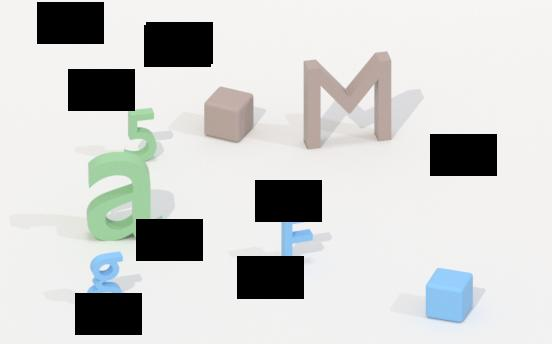5: (126, 105, 159, 161)
F: (280, 207, 315, 268)
M-hoa: (302, 52, 393, 153)
a: (86, 151, 164, 242)
g: (87, 251, 126, 311)
hop: (202, 84, 256, 144), (424, 265, 476, 325)
